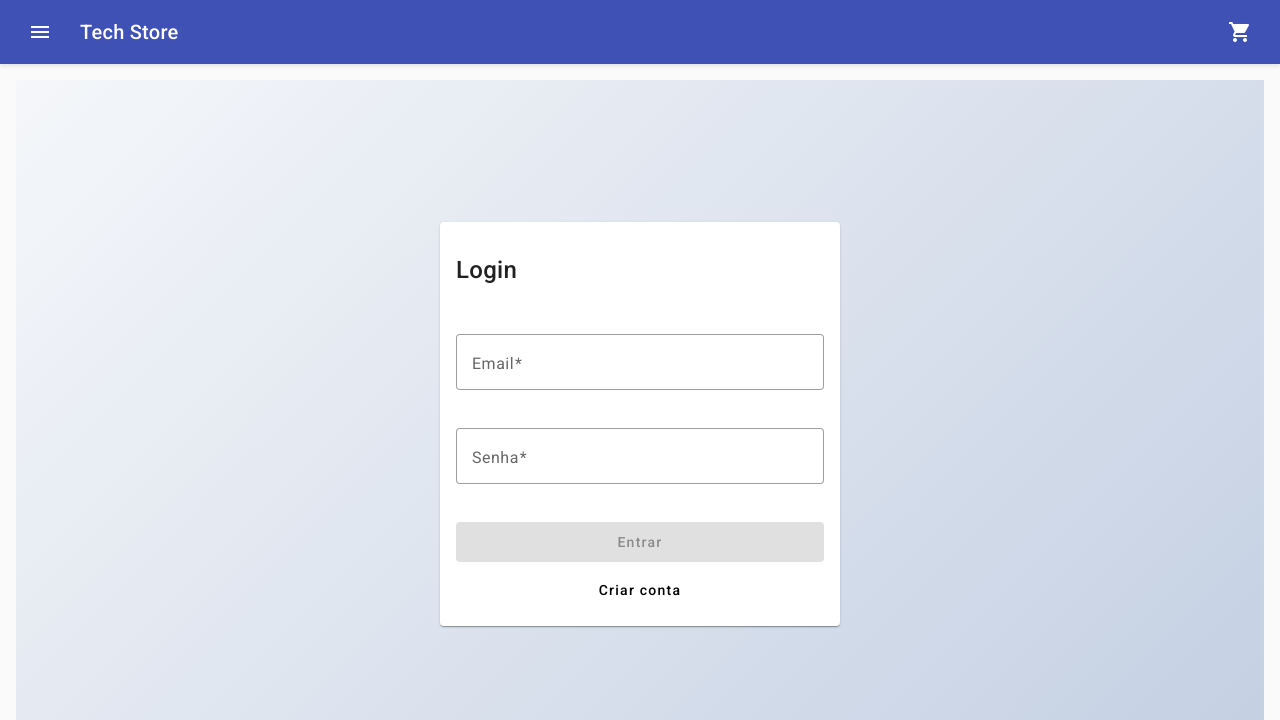
Scenario: Authentication Flow › should show error message with invalid credentials
The image size is (1280, 720).
In the field with test id "email-input": (640, 362) [472, 350, 808, 374], type "wrong@email.com"
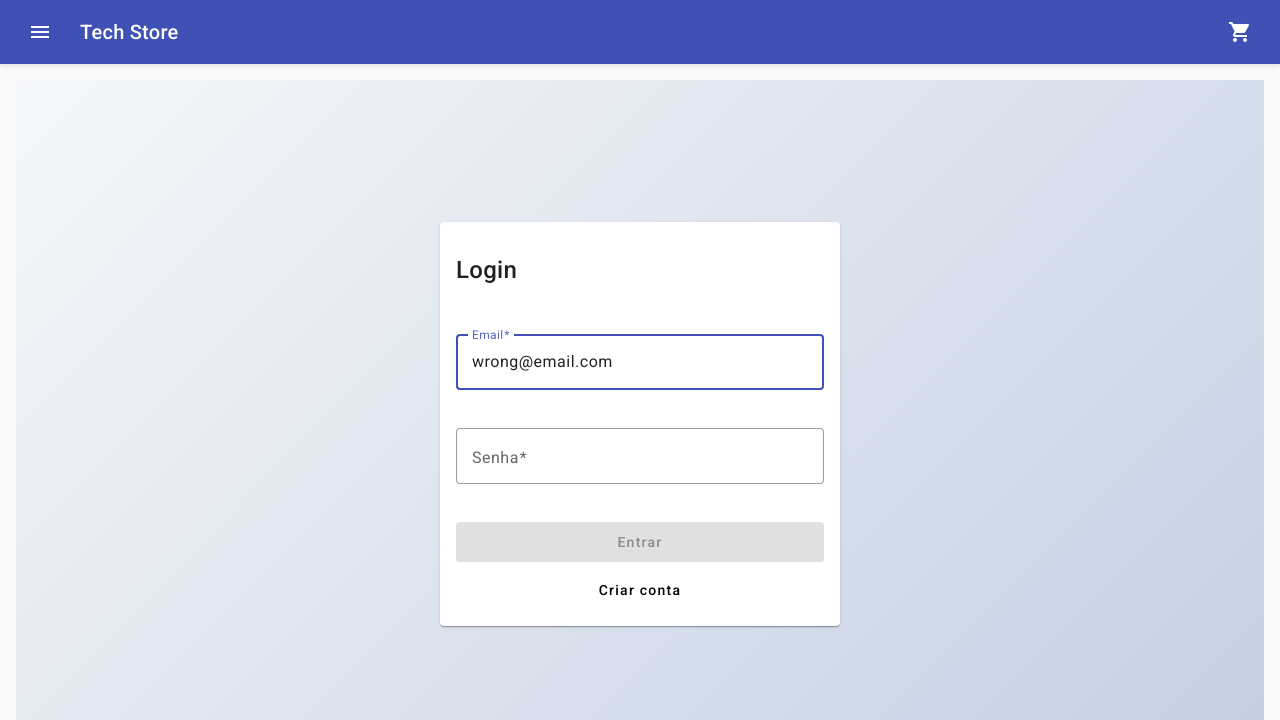
In the password field with test id "password-input": (640, 456) [472, 444, 808, 468], type "wrongpass"
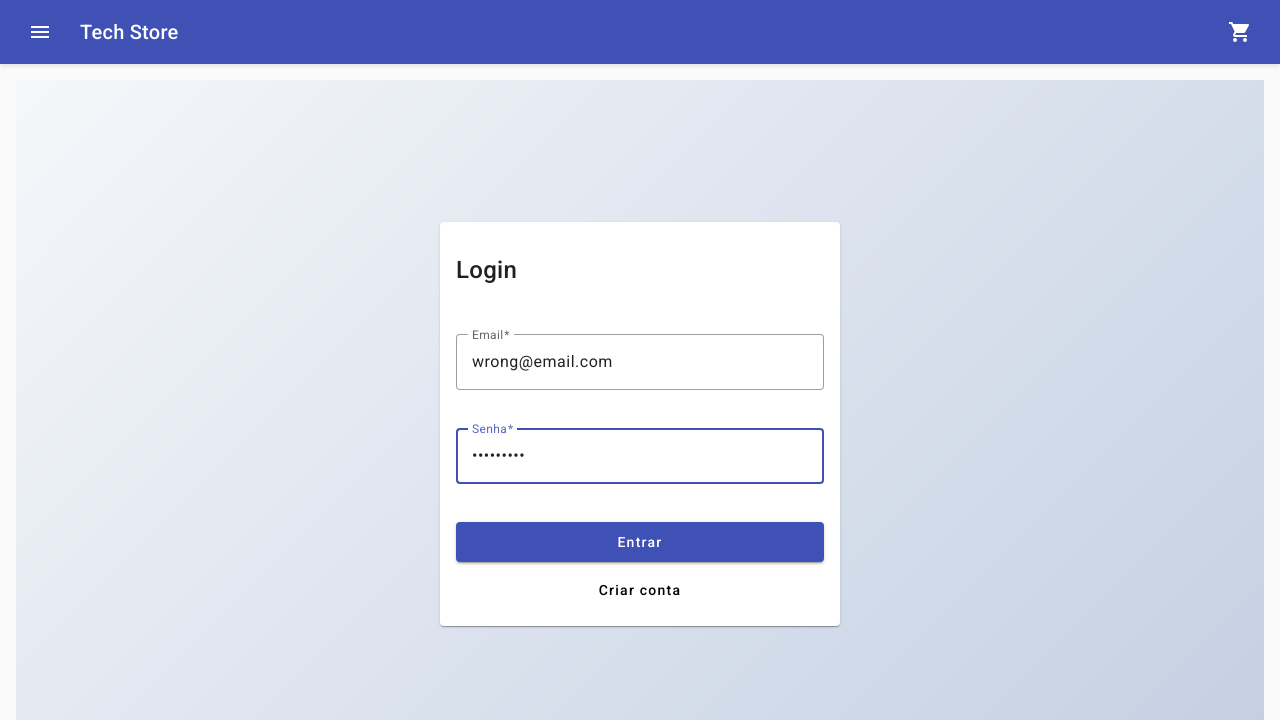
Click the button with test id "login-button": (640, 542) [456, 522, 824, 562]
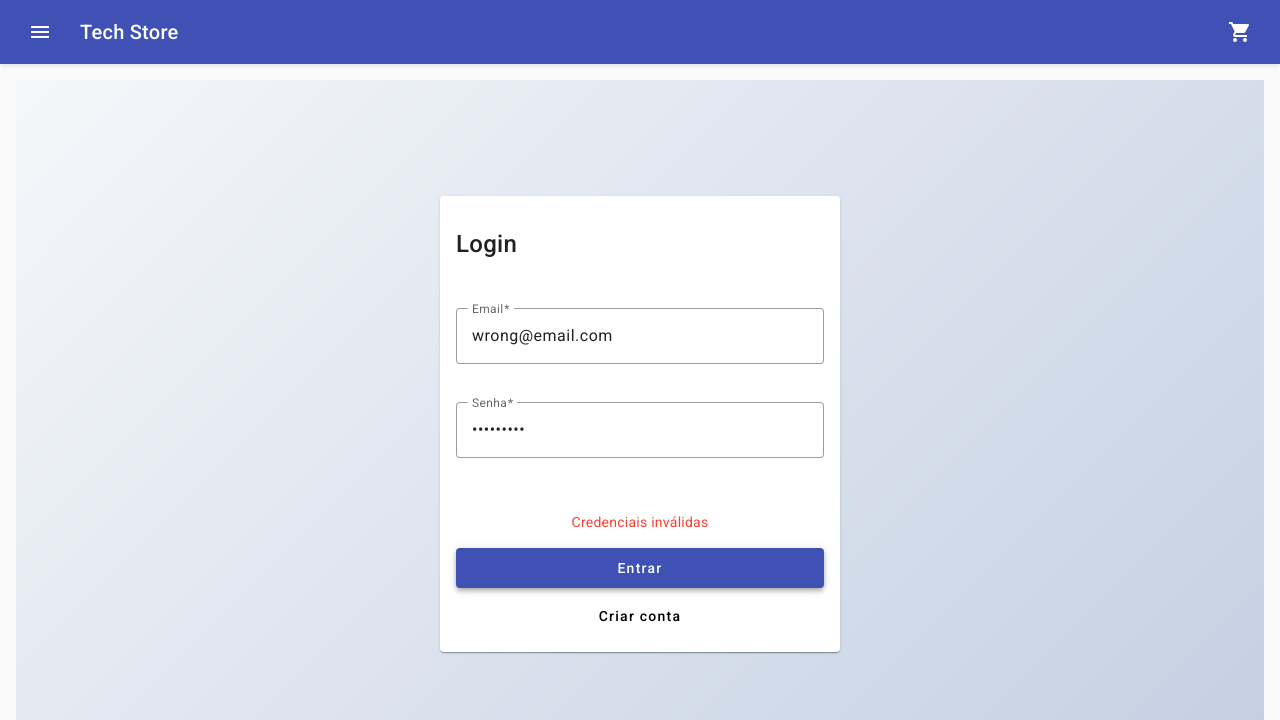
Result: the text "Credenciais inválidas" is shown at [572, 514, 708, 530]
Result: the text with test id "error-message" reads "Credenciais inválidas" at [572, 514, 709, 530]
